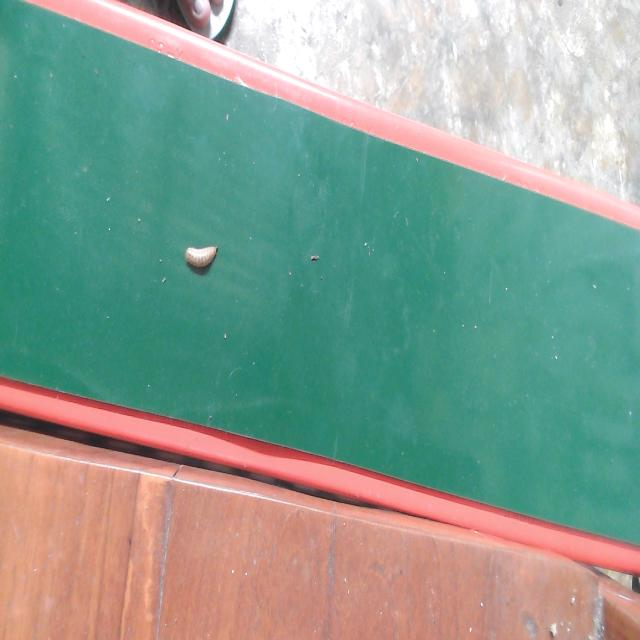Maggot: (184, 245, 218, 275)
